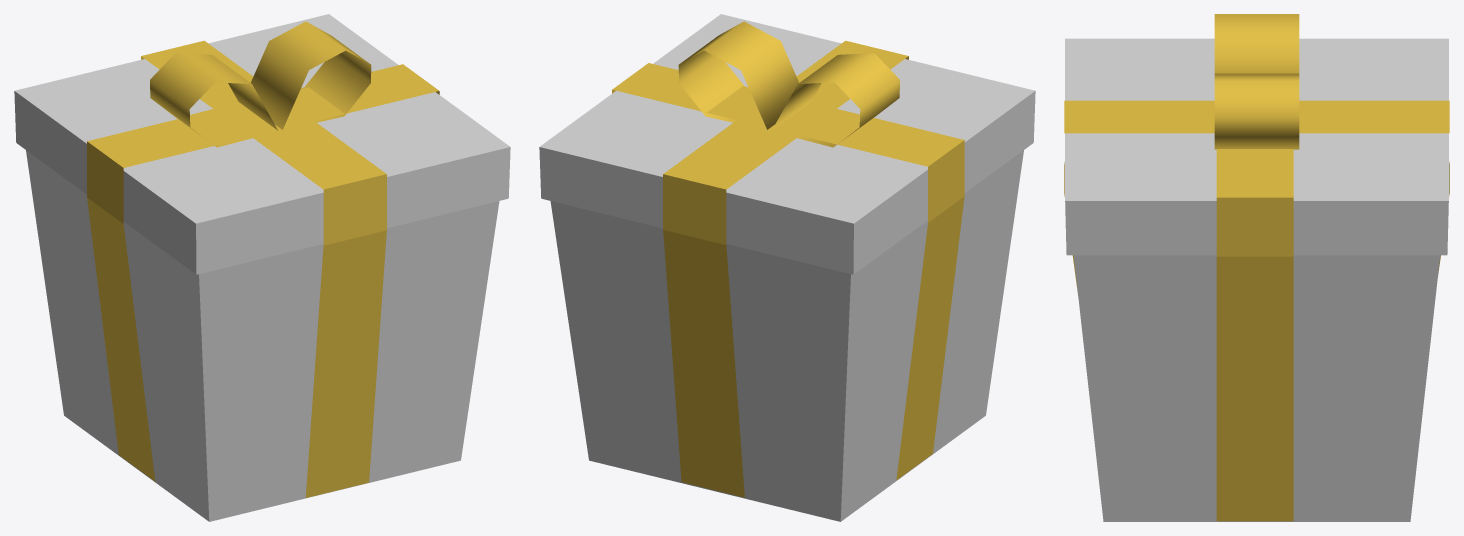
File: Cadeau_rouge.fbx
3 views of the same model, side by side, from view 1: azimuth 30°, elevation 25°; view 2: azimuth 150°, elevation 25°; view 3: azimuth 270°, elevation 25° (orthographic). The views are drawn at different scales.
Visible parts, largest first — view 1: Cube; view 2: Cube; view 3: Cube.
Boxes of the visible parts, x1,y1,x2,y2 form: Cube: [14, 14, 510, 521]; Cube: [539, 14, 1035, 521]; Cube: [1064, 14, 1449, 521].
Bounding box in the file's own units: 210 × 246 × 210.
